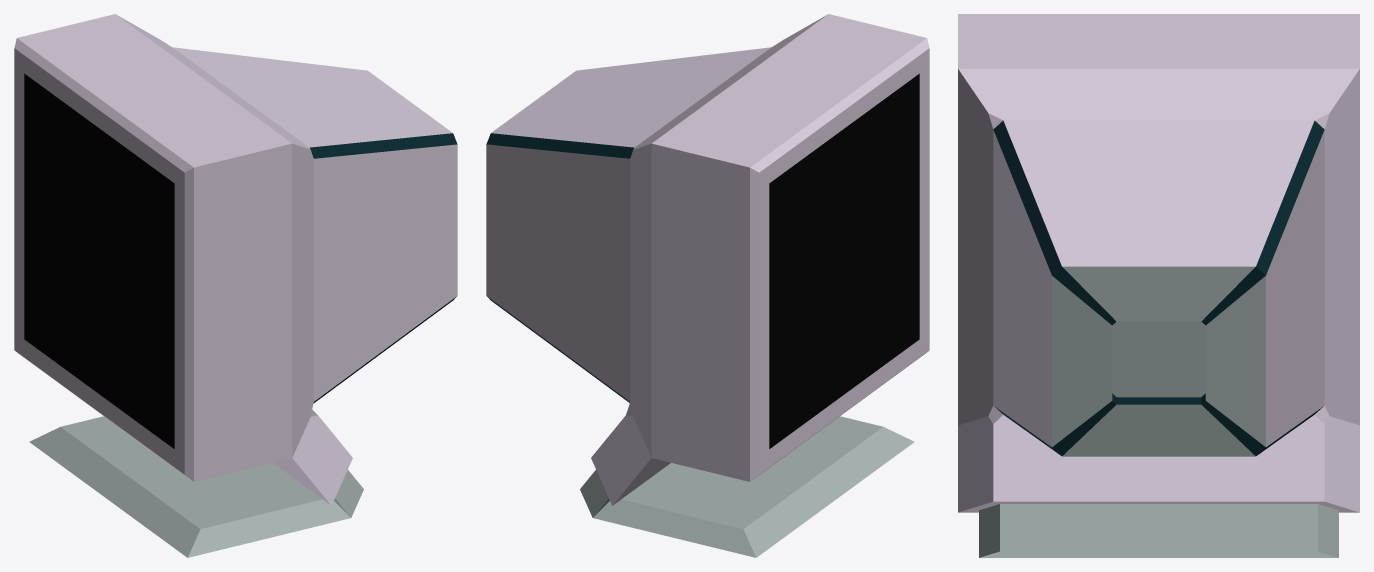
File: monitor.glb
3 views of the same model, side by side, from view 1: azimuth 30°, elevation 25°; view 2: azimuth 150°, elevation 25°; view 3: azimuth 270°, elevation 25° (orthographic). The views are drawn at different scales.
Visible parts, largest first — view 1: Cube; view 2: Cube; view 3: Cube.
Part boxes in pixels (x1,y1,x2,y2): Cube: [14, 14, 457, 557]; Cube: [486, 14, 929, 557]; Cube: [958, 14, 1359, 557].
Size of the model in its own units: 0.5523 by 0.6688 by 0.5395.
